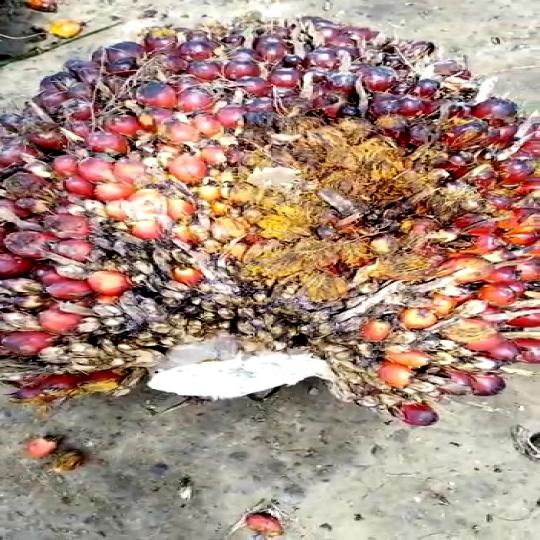masak: (0, 12, 540, 437)
